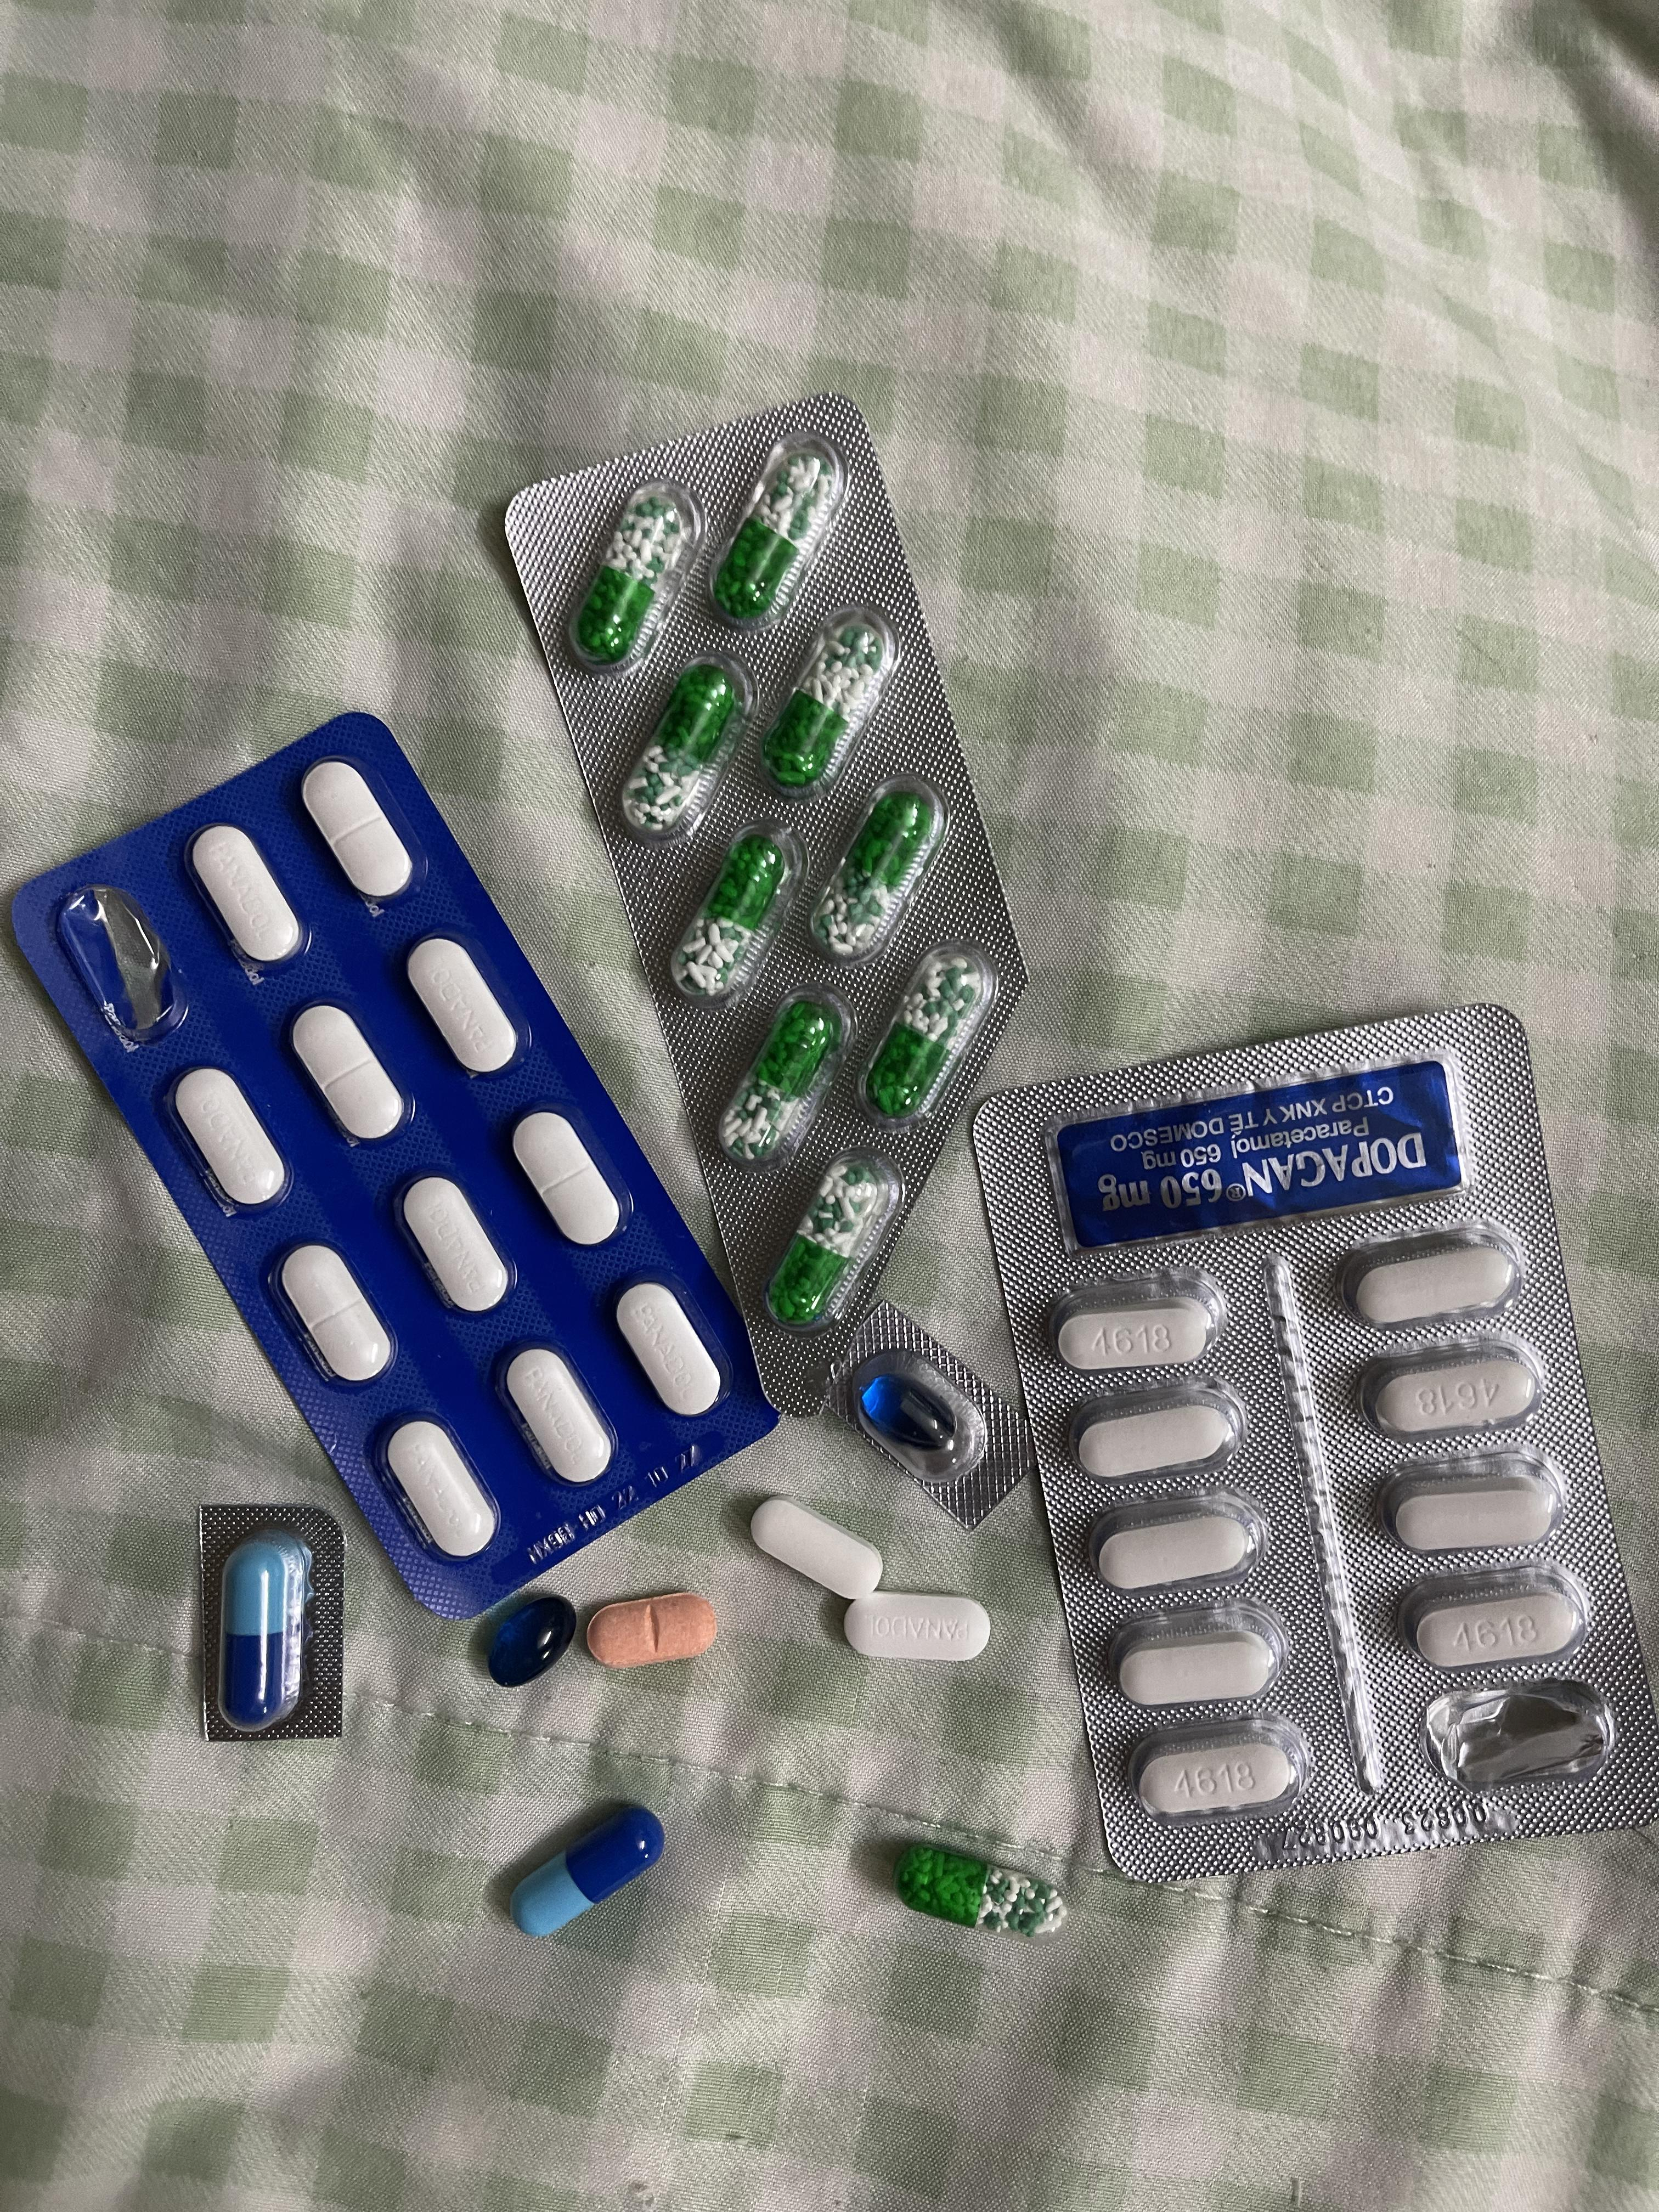Lincomyxin_500mg: (488, 1594, 579, 1686), (863, 1372, 958, 1449)
Loratadine_10mg: (589, 1594, 716, 1667)
Paracetamol_350mg: (497, 1343, 619, 1487), (169, 1066, 289, 1212), (274, 1242, 392, 1386), (289, 1003, 404, 1146), (406, 937, 523, 1076), (190, 826, 305, 967), (301, 759, 413, 900), (399, 1177, 511, 1317), (383, 1418, 498, 1552), (613, 1280, 725, 1418), (511, 1111, 622, 1249), (847, 1595, 990, 1665)
Paracetamol_500mg: (1396, 1564, 1595, 1669), (1112, 1601, 1286, 1712), (1356, 1336, 1547, 1437), (1051, 1256, 1215, 1371), (1087, 1480, 1258, 1587), (1352, 1245, 1520, 1325), (1077, 1404, 1236, 1487), (751, 1496, 880, 1599), (1138, 1737, 1291, 1818), (1392, 1480, 1556, 1554)
Paracetamol_650mg: (758, 606, 899, 805), (704, 430, 843, 625), (854, 946, 997, 1125), (613, 658, 753, 838), (669, 822, 807, 1003), (713, 991, 852, 1169), (809, 784, 946, 963), (762, 1157, 899, 1327), (894, 1838, 1066, 1937), (579, 496, 683, 658)
pill: (509, 1804, 667, 1939), (221, 1527, 315, 1733)
